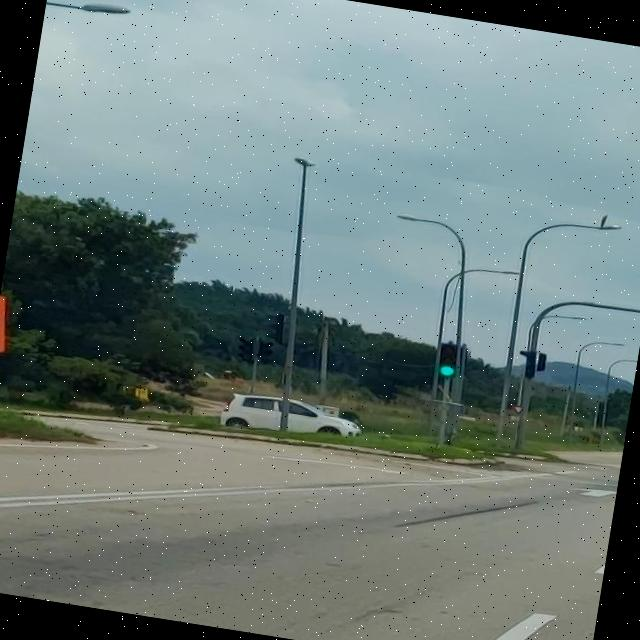green_light: (436, 342, 459, 378)
